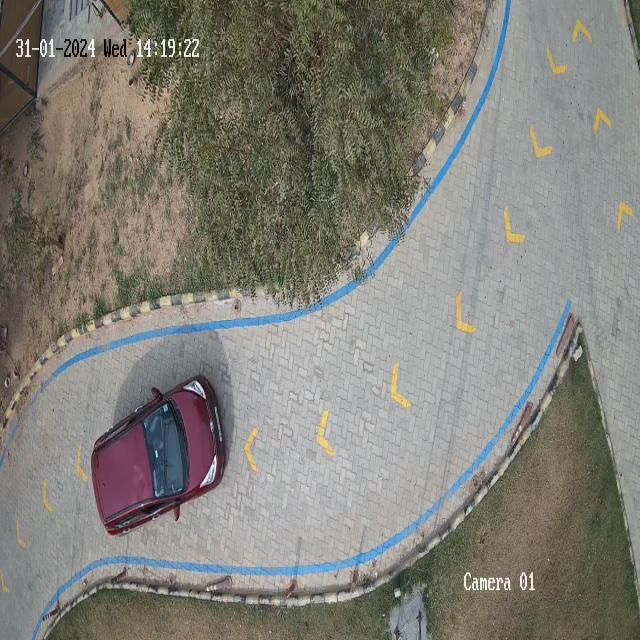car: (91, 378, 225, 536)
